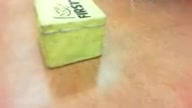cube: (31, 1, 107, 71)
